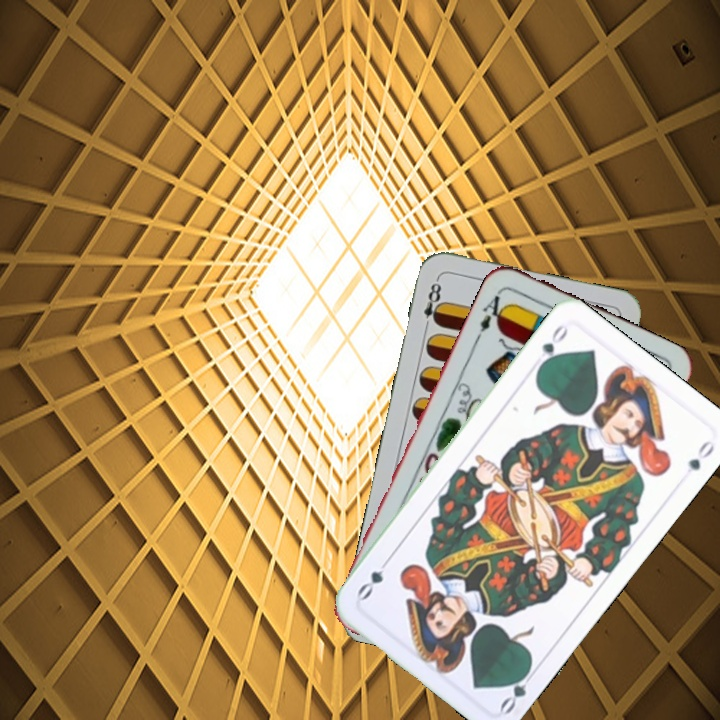E8: (419, 274, 445, 333)
EA: (472, 286, 510, 342)
GO: (496, 662, 540, 717), (533, 320, 571, 373)
